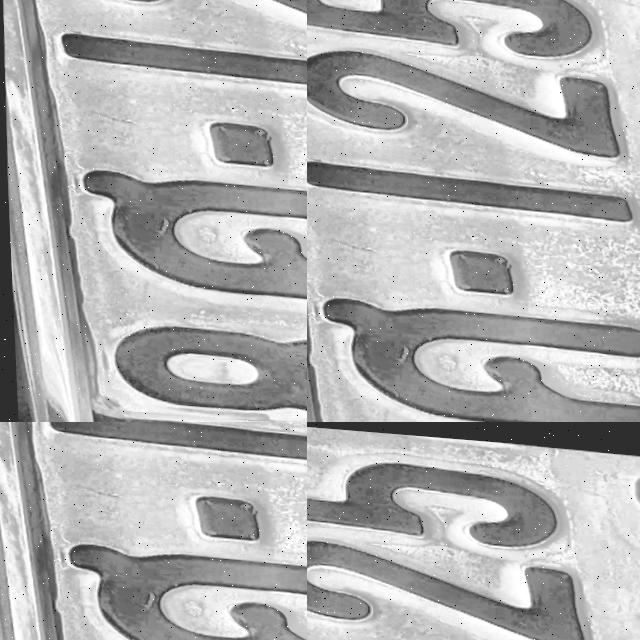license-plate: (0, 0, 307, 422), (307, 422, 640, 640), (0, 550, 182, 640), (464, 310, 564, 399)
